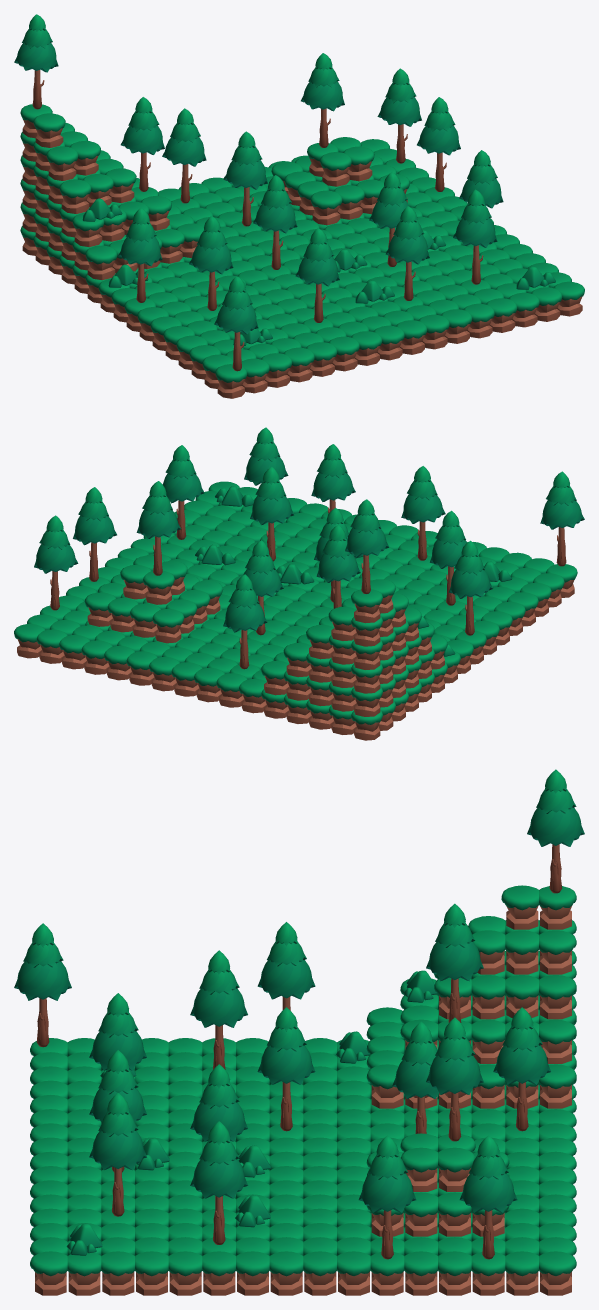
Rendered from forestedPineBiome.fbx.
3 views of the same model, one above another, from view 1: azimuth 30°, elevation 25°; view 2: azimuth 150°, elevation 25°; view 3: azimuth 270°, elevation 25° (orthographic). The views are drawn at different scales.
Visible parts, largest first — view 1: Tree_5_E_Color2.015, Tree_5_E_Color2.010, Tree_5_E_Color2.018, Tree_5_E_Color2.002, Tree_5_E_Color2.003, Tree_5_E_Color2.011, Tree_5_E_Color2.006, Tree_5_E_Color2.012, Tree_5_E_Color2.008, Tree_5_E_Color2.001, Tree_5_E_Color2.014, Tree_5_E_Color2.013 (+52 smaller); view 2: Tree_5_E_Color2.015, Tree_5_E_Color2.001, Tree_5_E_Color2.002, Tree_5_E_Color2.011, Tree_5_E_Color2.013, Tree_5_E_Color2.005, Tree_5_E_Color2.012, Tree_5_E_Color2.018, Tree_5_E_Color2.009, Tree_5_E_Color2.007, Tree_5_E_Color2.017, Tree_5_E_Color2.008 (+61 smaller); view 3: Tree_5_E_Color2.011, Tree_5_E_Color2.005, Tree_5_E_Color2.012, Tree_5_E_Color2.013, Tree_5_E_Color2.010, Tree_5_E_Color2.015, Tree_5_E_Color2.002, Tree_5_E_Color2.007, Tree_5_E_Color2.006, Tree_5_E_Color2.017, Tree_5_E_Color2.003, Tree_5_E_Color2.018 (+44 smaller).
Part boxes in pixels (x1,y1,x2,y2): Tree_5_E_Color2.015: (162,108,206,203); Tree_5_E_Color2.010: (253,175,297,269); Tree_5_E_Color2.018: (118,208,162,302); Tree_5_E_Color2.002: (214,276,258,371); Tree_5_E_Color2.003: (189,216,233,310); Tree_5_E_Color2.011: (14,14,58,109); Tree_5_E_Color2.006: (453,189,497,284); Tree_5_E_Color2.012: (417,97,460,191); Tree_5_E_Color2.008: (385,206,429,300); Tree_5_E_Color2.001: (295,228,339,322); Tree_5_E_Color2.014: (223,131,267,226); Tree_5_E_Color2.013: (377,68,421,163); Tree_5_E_Color2.015: (223,574,267,669); Tree_5_E_Color2.001: (401,466,445,560); Tree_5_E_Color2.002: (540,471,584,566); Tree_5_E_Color2.011: (345,499,389,593); Tree_5_E_Color2.013: (34,515,78,610); Tree_5_E_Color2.005: (136,481,180,575); Tree_5_E_Color2.012: (73,487,116,581); Tree_5_E_Color2.018: (449,540,492,635); Tree_5_E_Color2.009: (250,467,294,561); Tree_5_E_Color2.007: (162,445,204,539); Tree_5_E_Color2.017: (316,525,360,608); Tree_5_E_Color2.008: (311,444,355,513); Tree_5_E_Color2.011: (527,769,584,893); Tree_5_E_Color2.005: (426,1017,483,1141); Tree_5_E_Color2.012: (358,1135,416,1259); Tree_5_E_Color2.013: (459,1135,517,1259); Tree_5_E_Color2.010: (257,1007,315,1131); Tree_5_E_Color2.015: (493,1007,550,1131); Tree_5_E_Color2.002: (14,923,71,1047); Tree_5_E_Color2.007: (190,1121,247,1244); Tree_5_E_Color2.006: (89,1092,146,1216); Tree_5_E_Color2.017: (426,903,483,1022); Tree_5_E_Color2.003: (190,950,247,1069); Tree_5_E_Color2.018: (257,922,315,1010).
Bounding box in the file's own units: 3311 × 2009 × 3395.
